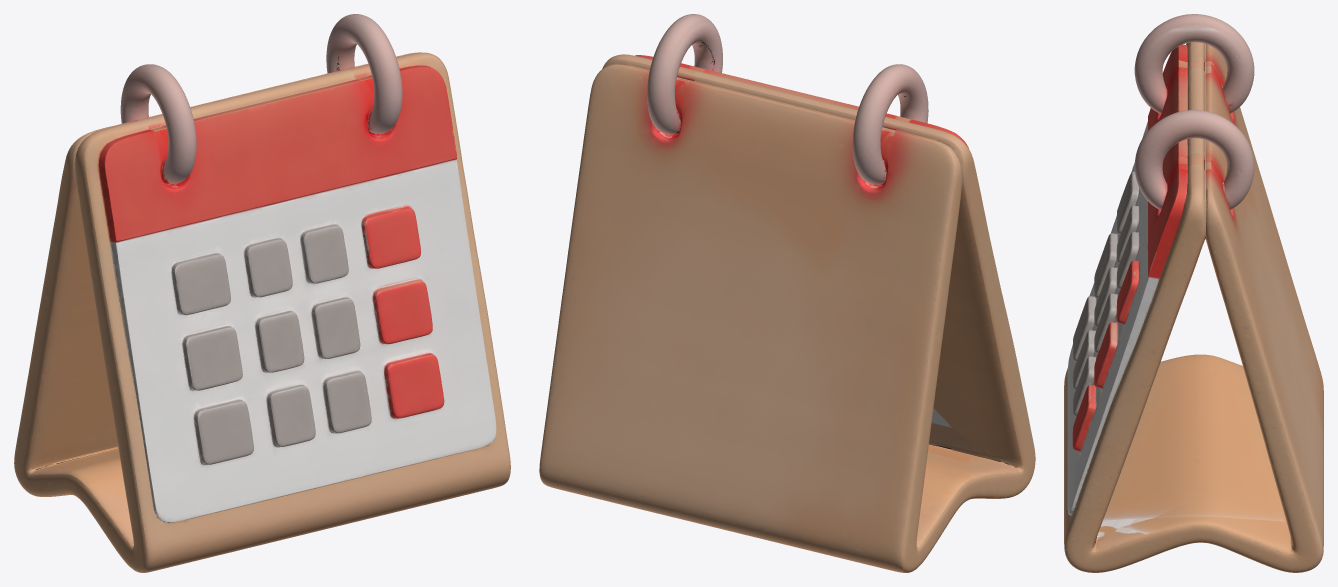
File: calendar.glb
The picture shows the model from 3 angles, left to right: view 1: azimuth 30°, elevation 25°; view 2: azimuth 150°, elevation 25°; view 3: azimuth 270°, elevation 25°; orthographic projection. The views are drawn at different scales.
Visible parts, largest first — view 1: model; view 2: model; view 3: model.
Boxes of the visible parts, x1,y1,x2,y2 form: model: (14, 14, 510, 572); model: (539, 14, 1035, 572); model: (1064, 14, 1323, 572).
Size of the model in its own units: 1.63 by 1.9 by 1.05.
Materials: 1 (1 with a texture image).
